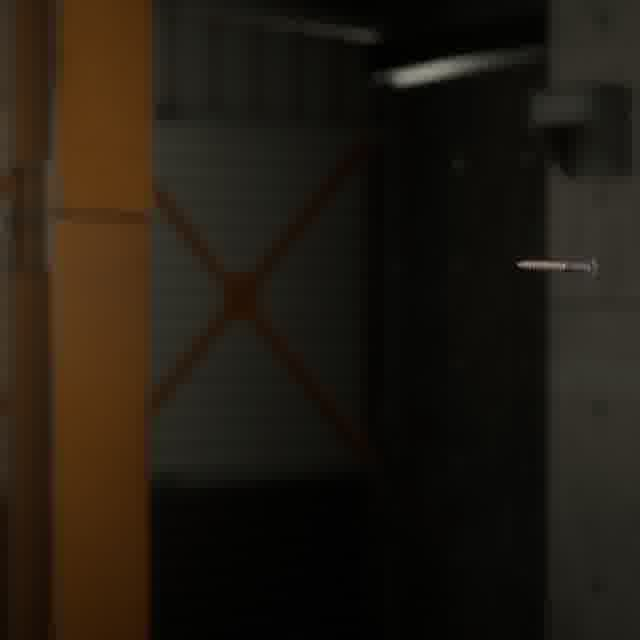bolt: (512, 253, 602, 281)
